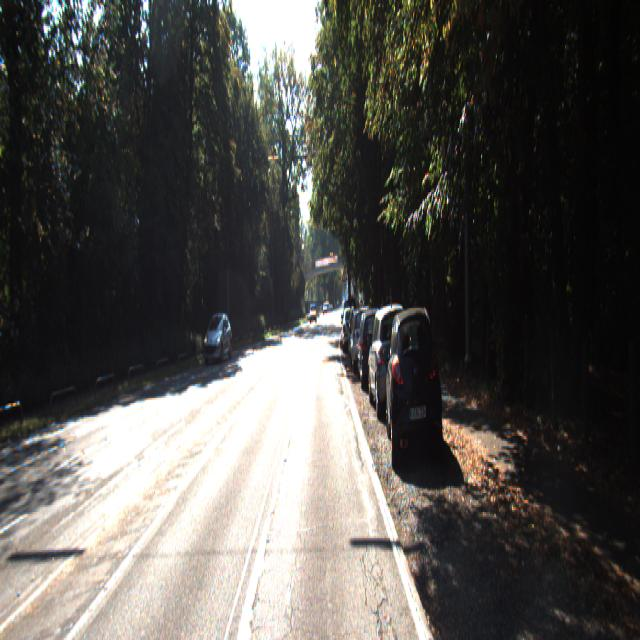Car: (385, 300, 444, 466), (367, 302, 415, 416), (357, 304, 387, 388), (633, 317, 640, 638), (349, 304, 376, 372), (202, 313, 233, 367), (342, 306, 358, 351)
